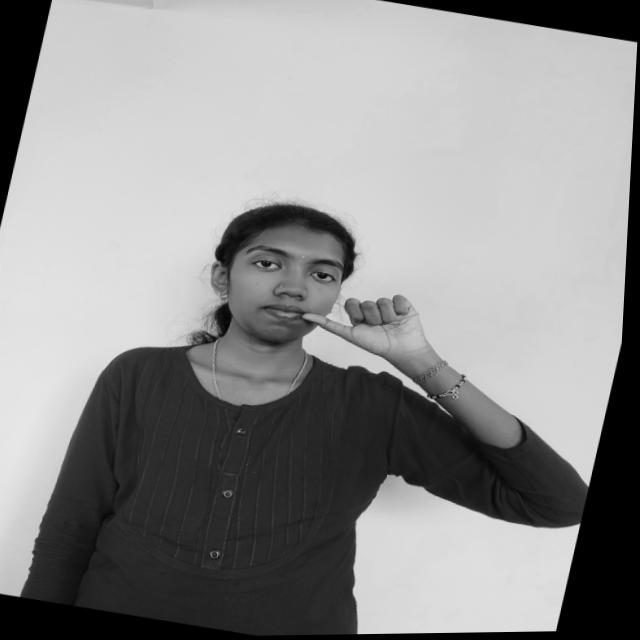Drink: (293, 274, 458, 375)
